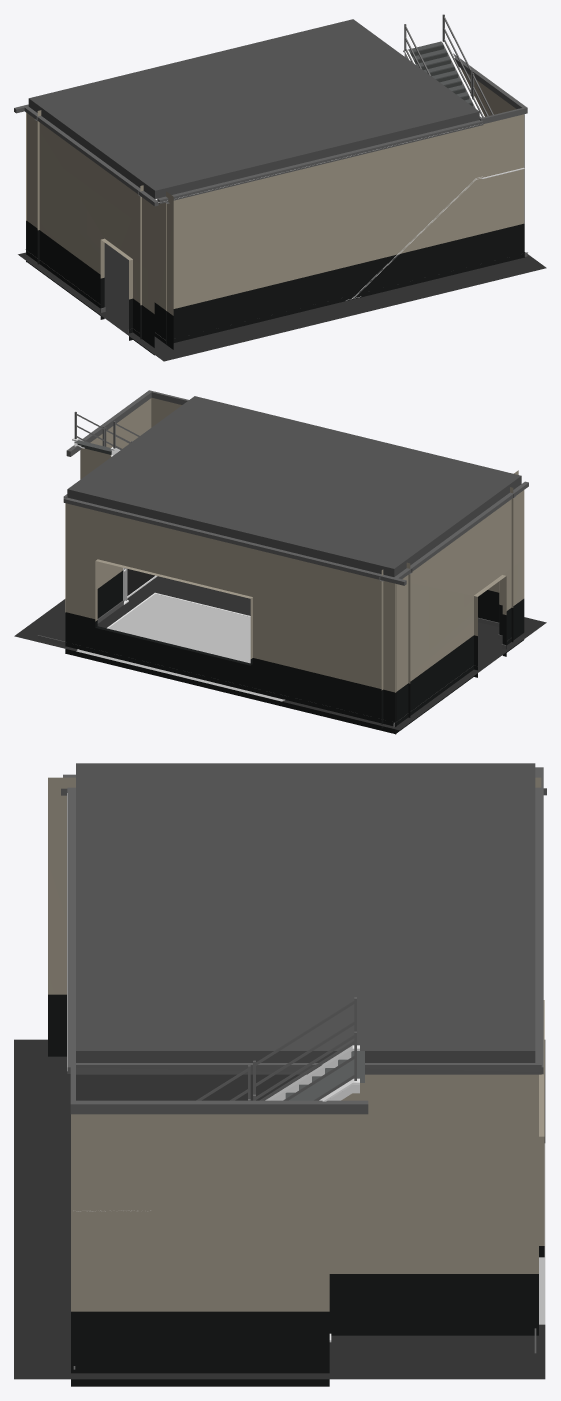
File: SM_H_Building_Tide_MedicalRoom_27_ATLAS.fbx
The picture shows the model from 3 angles, top to bottom: view 1: azimuth 30°, elevation 25°; view 2: azimuth 150°, elevation 25°; view 3: azimuth 270°, elevation 25°; orthographic projection. The views are drawn at different scales.
Parts seen in each view (by area): view 1: SM_H_Building_Tide_MedicalRoom_27_ATLAS; view 2: SM_H_Building_Tide_MedicalRoom_27_ATLAS; view 3: SM_H_Building_Tide_MedicalRoom_27_ATLAS.
Boxes of the visible parts, bbox=[...] form: SM_H_Building_Tide_MedicalRoom_27_ATLAS: bbox=[14, 14, 546, 361]; SM_H_Building_Tide_MedicalRoom_27_ATLAS: bbox=[14, 390, 546, 734]; SM_H_Building_Tide_MedicalRoom_27_ATLAS: bbox=[14, 763, 546, 1386].
Bounding box in the file's own units: 1429 × 938 × 684.
